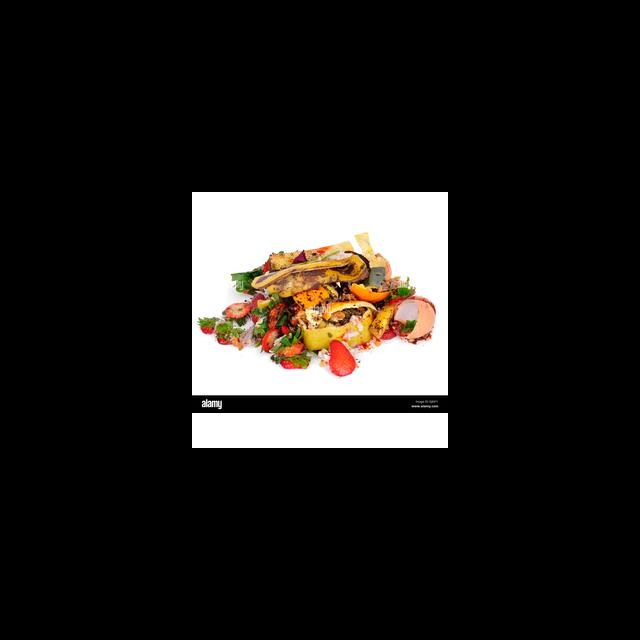food_waste: (198, 234, 435, 375)
